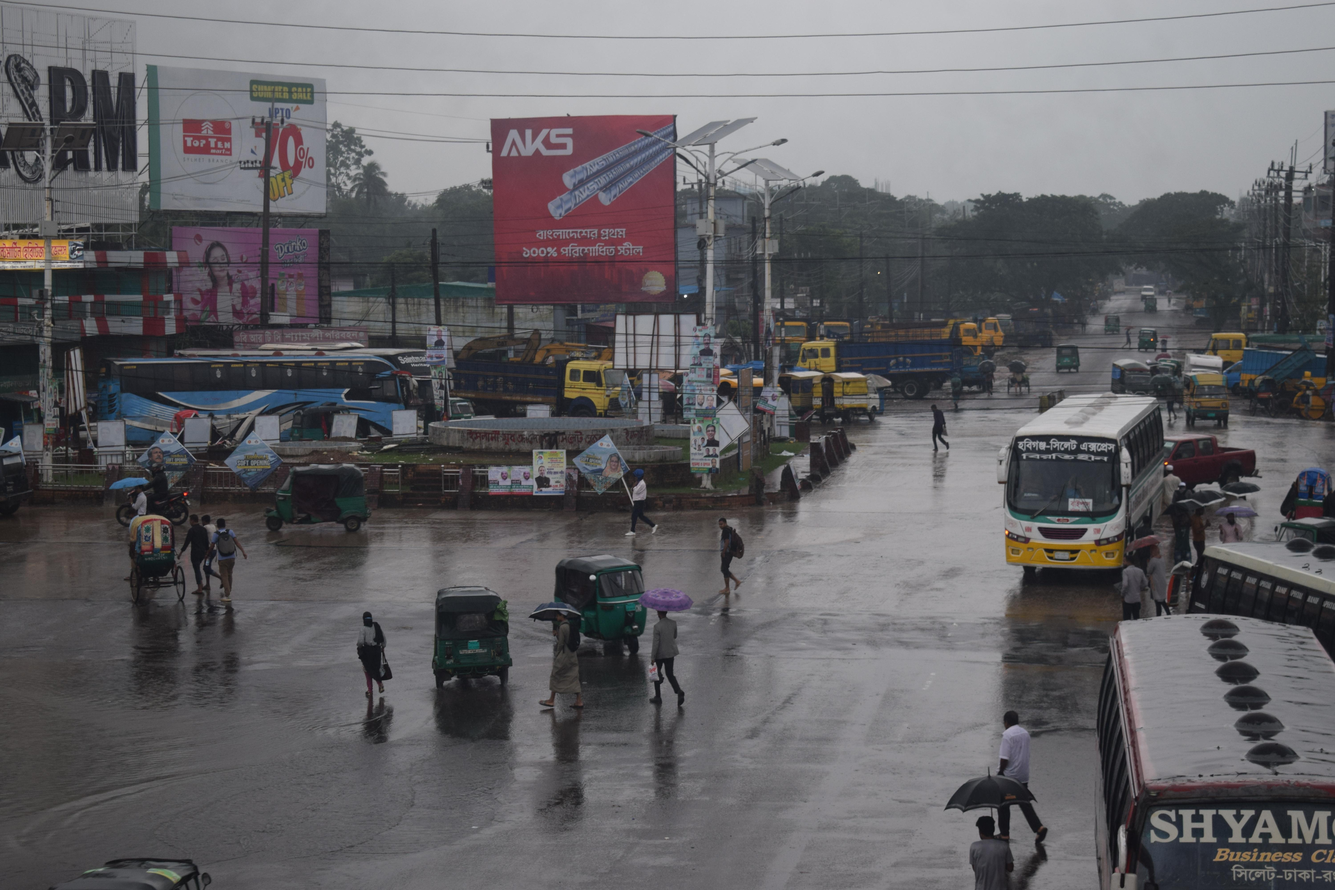Bike: (104, 456, 209, 542)
Bus: (1064, 578, 1335, 890), (67, 330, 431, 505), (969, 370, 1189, 598), (1174, 508, 1335, 656)
Car: (100, 509, 211, 631), (1140, 424, 1284, 484)
Truck: (435, 338, 633, 434), (779, 318, 983, 406)
